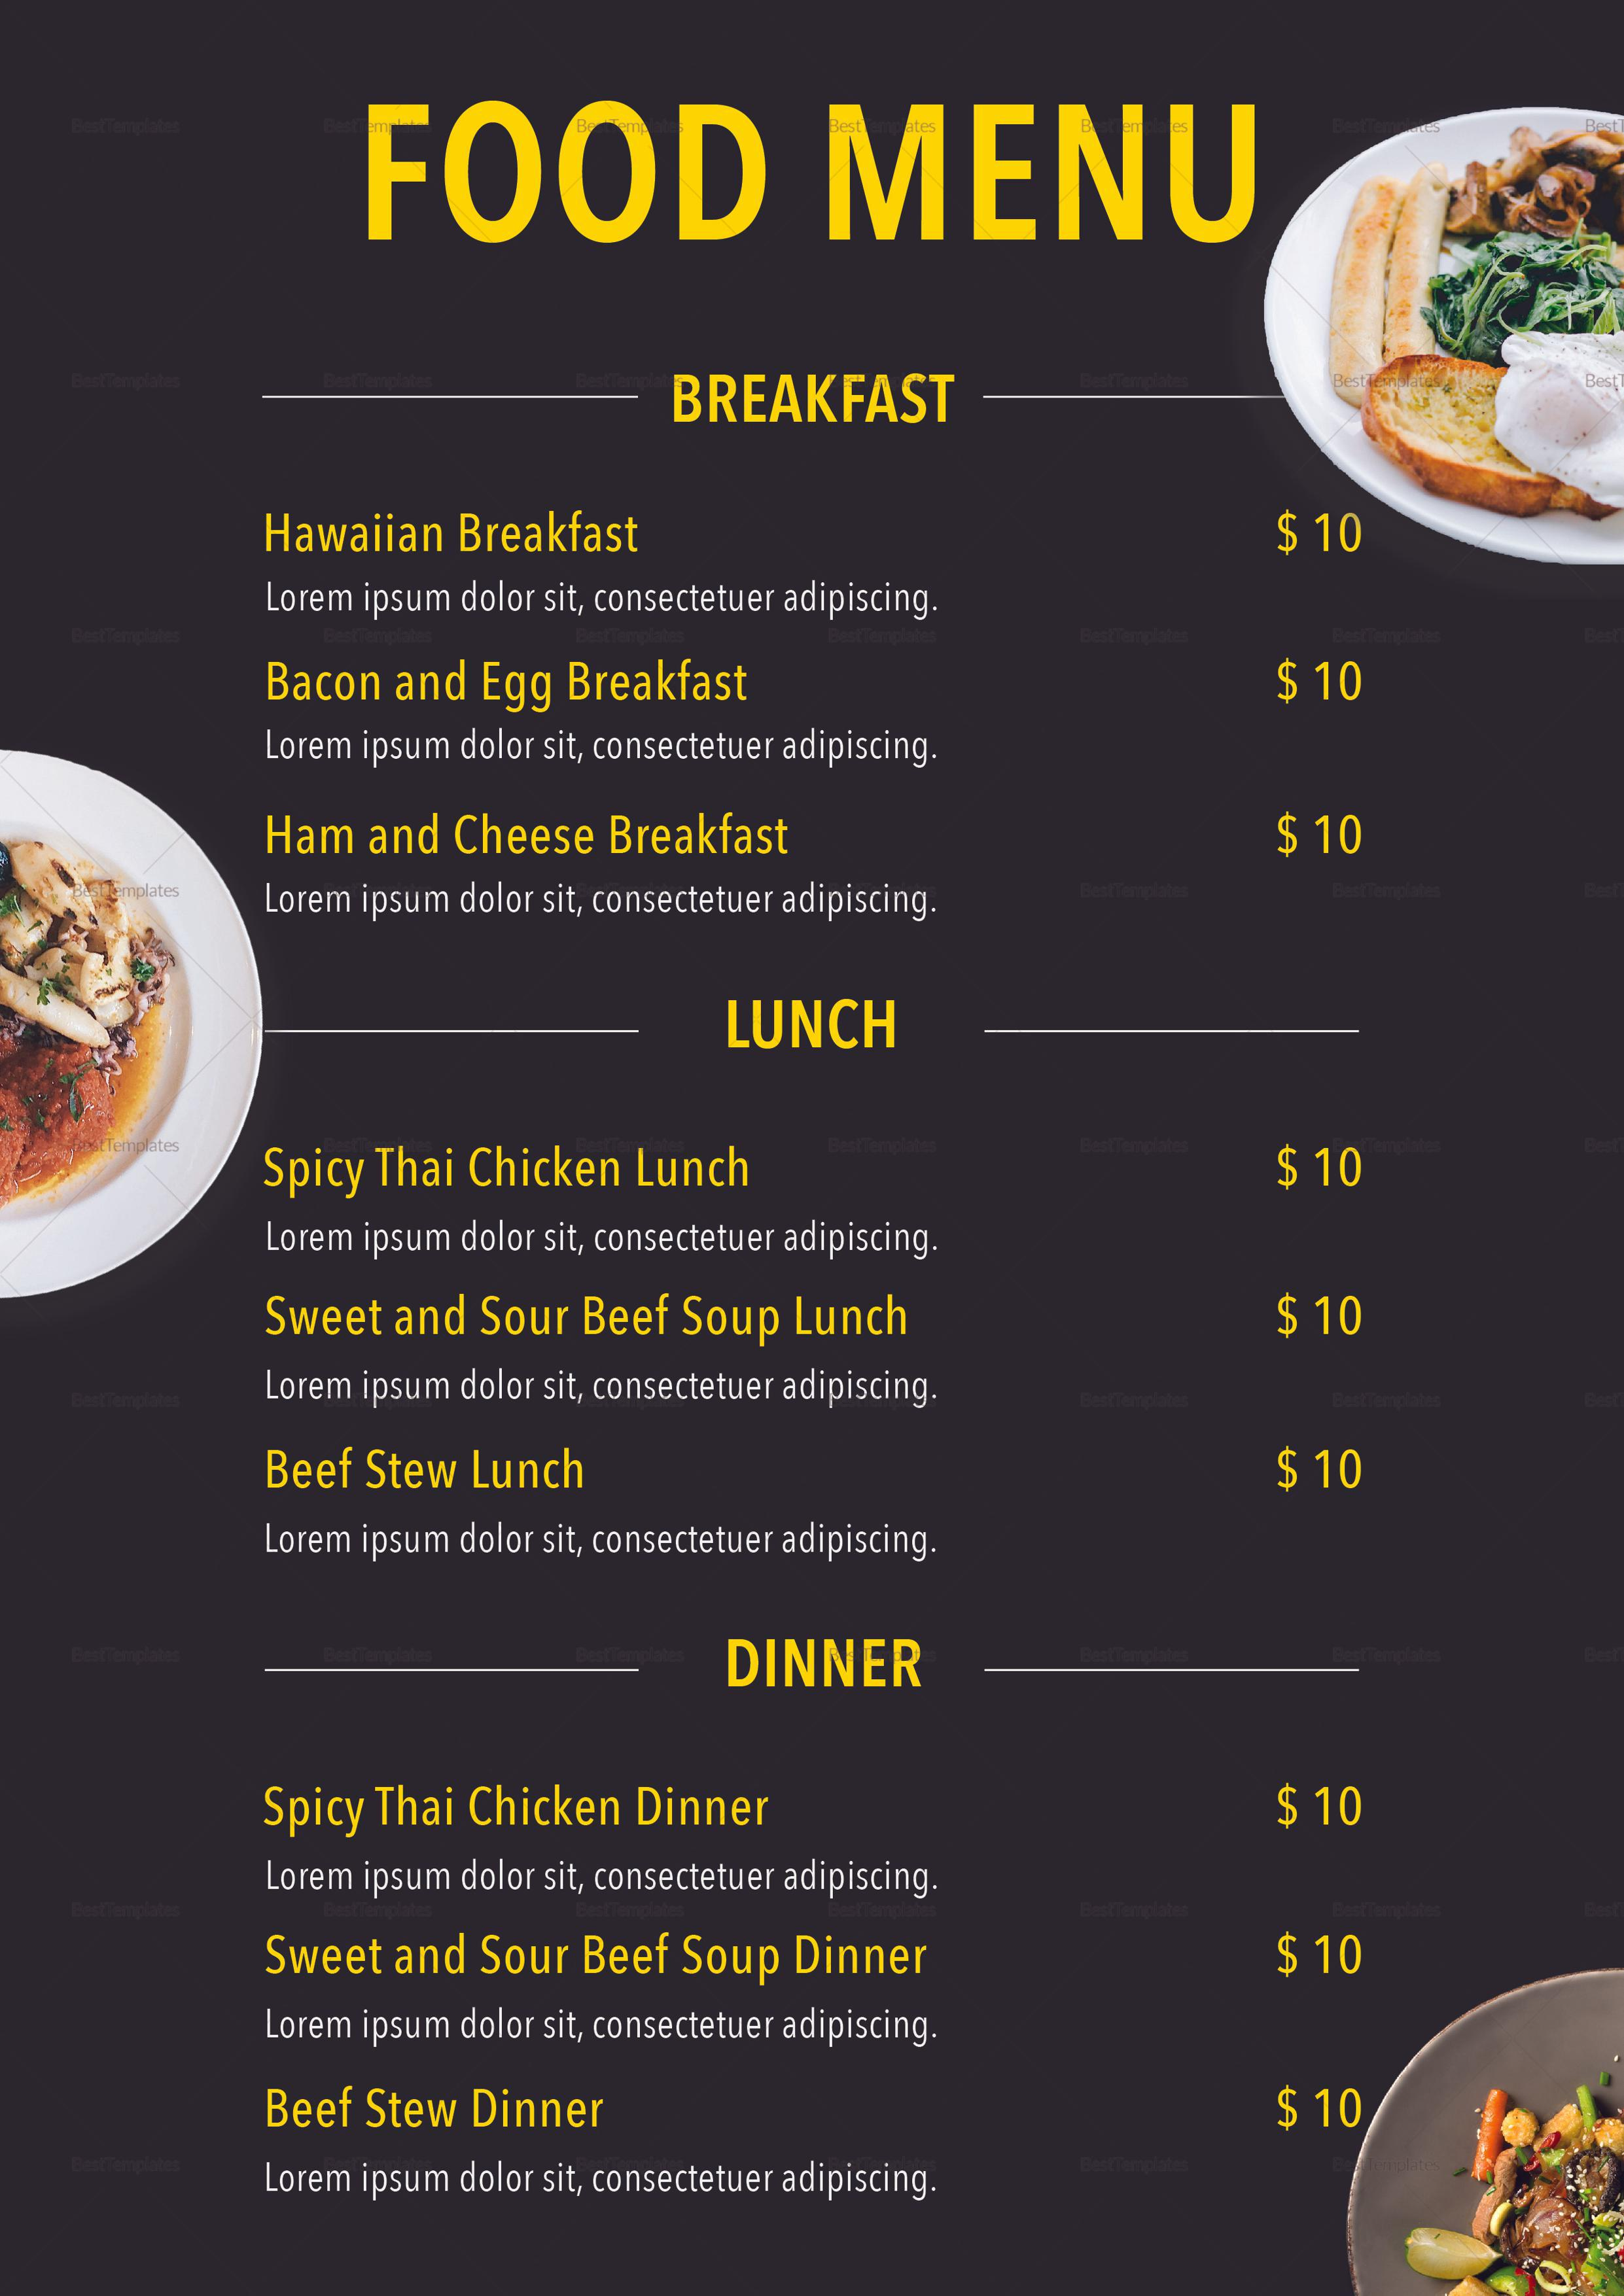description: (258, 2148, 951, 2213), (258, 1358, 944, 1414), (262, 718, 951, 773), (255, 1996, 949, 2048), (258, 1850, 946, 1903), (262, 1513, 944, 1565), (258, 875, 949, 924), (262, 1214, 951, 1263), (262, 576, 954, 624)
item: (251, 1288, 1376, 1421), (257, 1439, 1374, 1572), (251, 1778, 1380, 1904), (251, 2082, 1376, 2208), (255, 499, 1376, 622), (258, 801, 1383, 922), (257, 1931, 1381, 2052), (258, 652, 1380, 773), (255, 1140, 1378, 1254)
price: (1272, 1293, 1367, 1347), (1272, 506, 1367, 559), (1267, 1440, 1359, 1495), (1271, 657, 1364, 708), (1271, 808, 1366, 857), (1271, 1142, 1366, 1188), (1272, 1934, 1367, 1980), (1272, 2083, 1360, 2131), (1274, 1783, 1360, 1827)
tittle: (262, 1929, 937, 1985), (257, 1778, 782, 1841), (262, 1291, 917, 1340), (262, 810, 793, 861), (265, 659, 759, 711), (255, 1145, 763, 1195), (251, 2080, 622, 2138), (262, 506, 647, 560), (258, 1444, 594, 1497)
